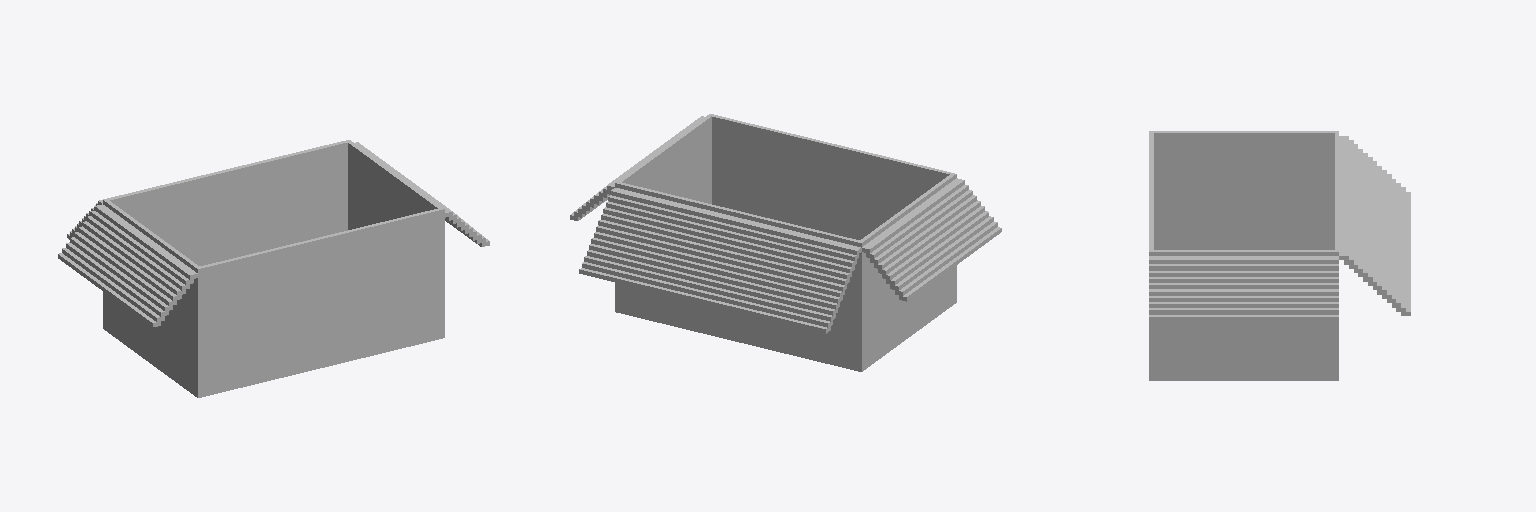
File: open box.obj
3 views of the same model, side by side, from view 1: azimuth 30°, elevation 25°; view 2: azimuth 150°, elevation 25°; view 3: azimuth 270°, elevation 25° (orthographic).
Visible parts, largest first — view 1: open box; view 2: open box; view 3: open box.
Part boxes in pixels (left/top/right/bottom): open box: left=58, top=140, right=489, bottom=397; open box: left=570, top=114, right=1001, bottom=371; open box: left=1149, top=131, right=1410, bottom=380.
Bounding box in the file's own units: 82 × 30 × 55.